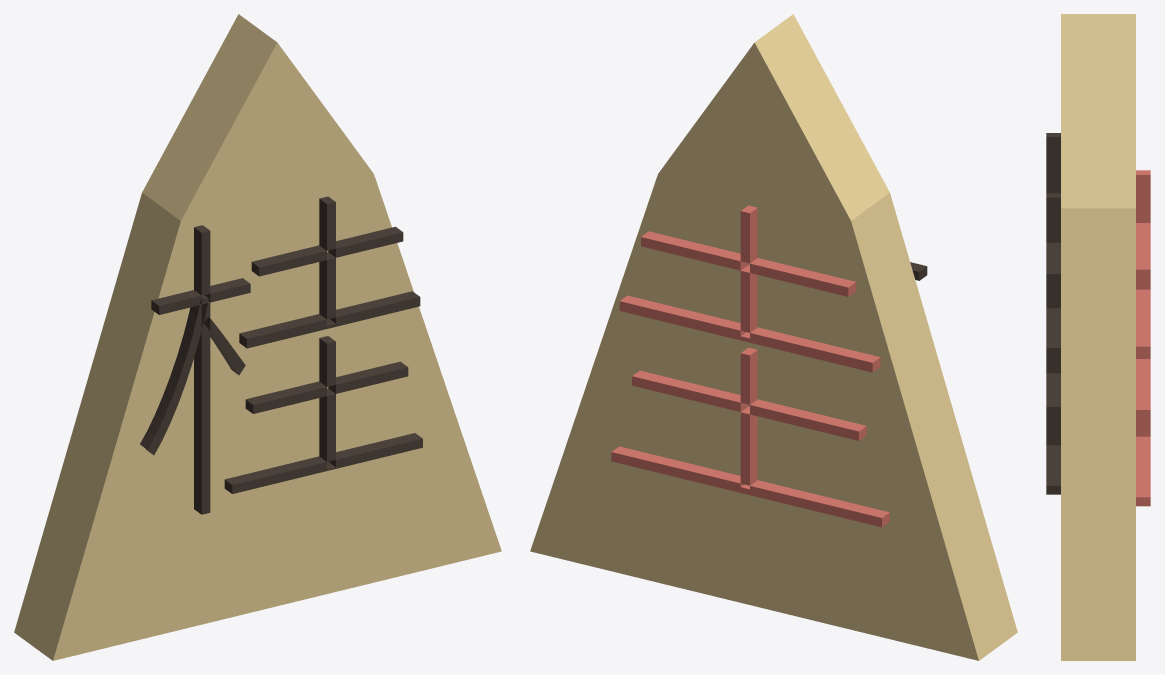
The model's file is koma-kei.glb.
3 renders of one model, left to right at view 1: azimuth 30°, elevation 25°; view 2: azimuth 150°, elevation 25°; view 3: azimuth 270°, elevation 25°, orthographic. The views are drawn at different scales.
Visible parts, largest first — view 1: world; view 2: world; view 3: world.
Part boxes in pixels (x1,y1,x2,y2): world: (14, 14, 501, 660); world: (530, 14, 1017, 660); world: (1046, 14, 1150, 660).
Bounding box in the file's own units: 2 × 2.4 × 0.42.
